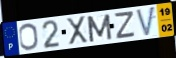2: (41, 19, 62, 50)
M: (86, 13, 114, 43)
O: (18, 22, 40, 51)
V: (135, 5, 157, 39)
X: (65, 15, 90, 47)
Z: (115, 9, 137, 40)
